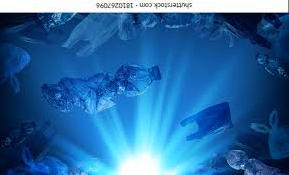Plastic: (26, 59, 161, 125)
Trash: (180, 99, 240, 148)
